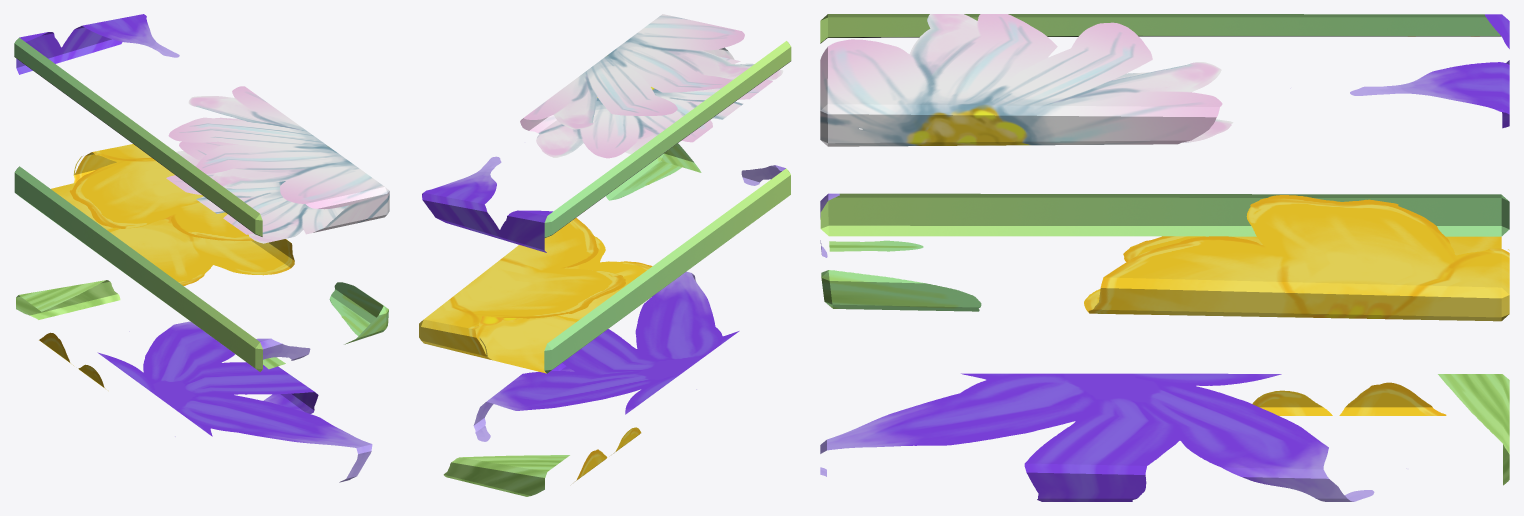
File: wallshelves.fbx
3 renders of one model, left to right at view 1: azimuth 30°, elevation 25°; view 2: azimuth 150°, elevation 25°; view 3: azimuth 270°, elevation 25°, orthographic. The views are drawn at different scales.
Parts seen in each view (by area): view 1: shelf, shelf1, shelf2; view 2: shelf, shelf1, shelf2; view 3: shelf1, shelf, shelf2.
Part boxes in pixels (bbox=[...]): shelf: bbox=[14, 14, 389, 243]; shelf1: bbox=[14, 144, 388, 371]; shelf2: bbox=[16, 280, 372, 482]; shelf: bbox=[422, 14, 791, 252]; shelf1: bbox=[419, 143, 790, 373]; shelf2: bbox=[443, 271, 739, 496]; shelf1: bbox=[820, 193, 1509, 321]; shelf: bbox=[820, 14, 1509, 146]; shelf2: bbox=[820, 373, 1509, 501].
Size of the model in its own units: 76.25 by 156 by 243.
